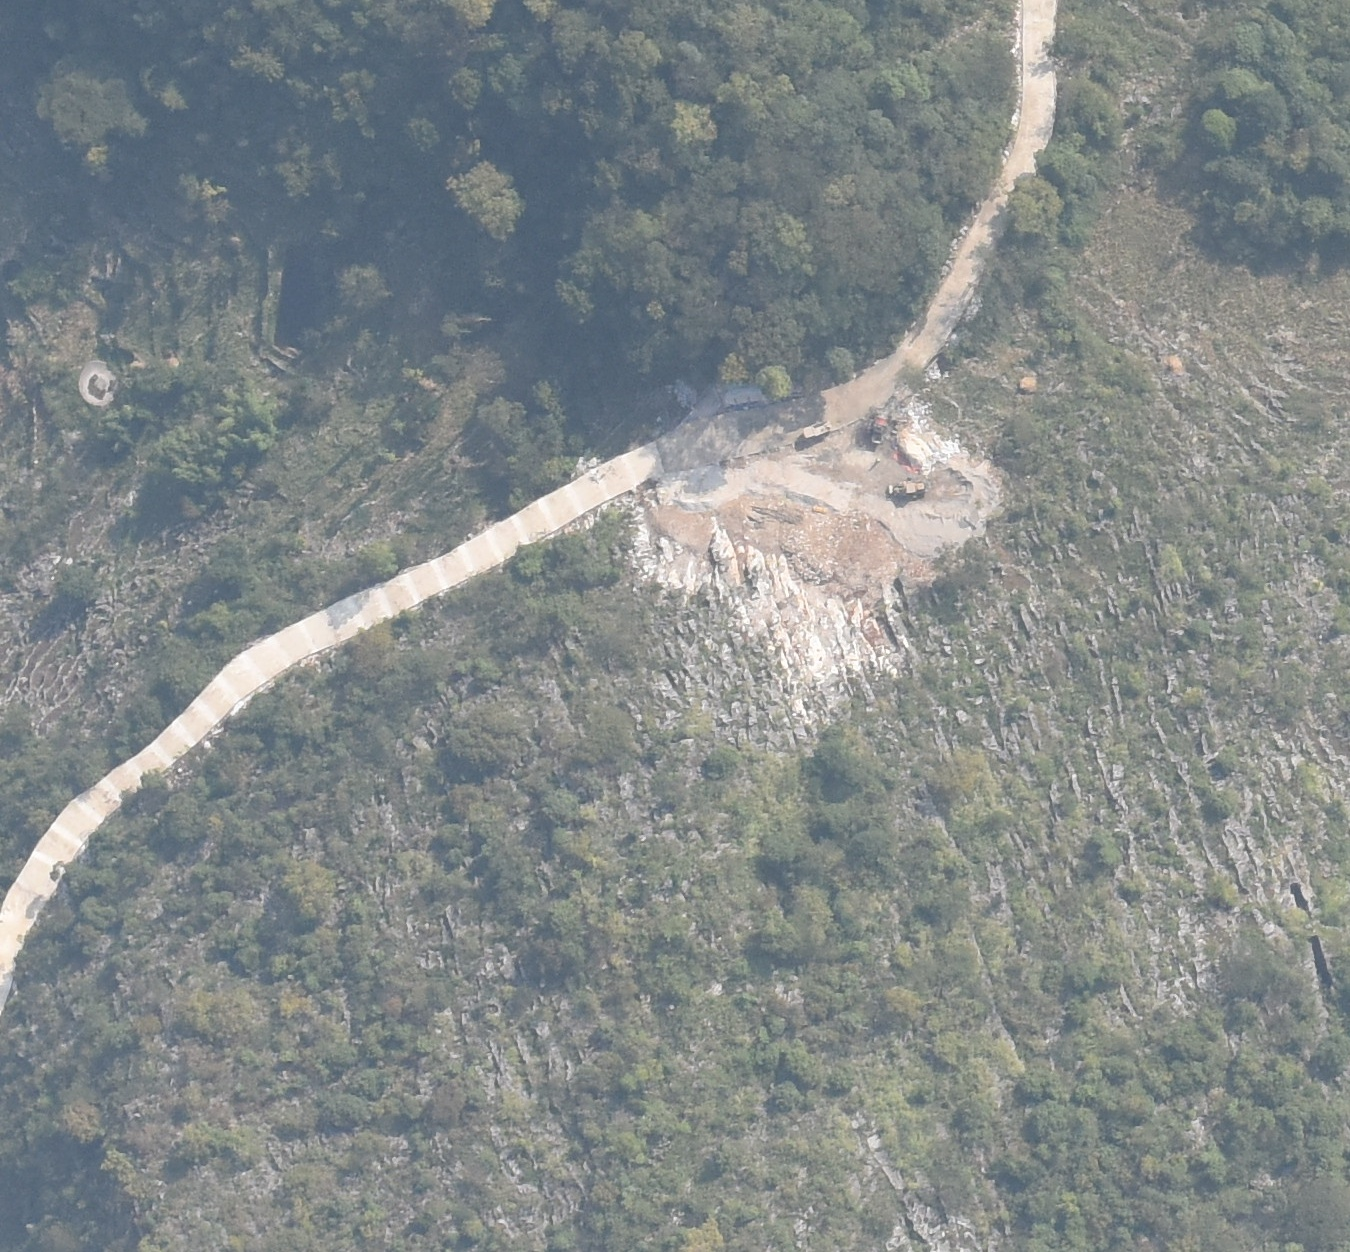quarry: (694, 415, 1010, 598)
